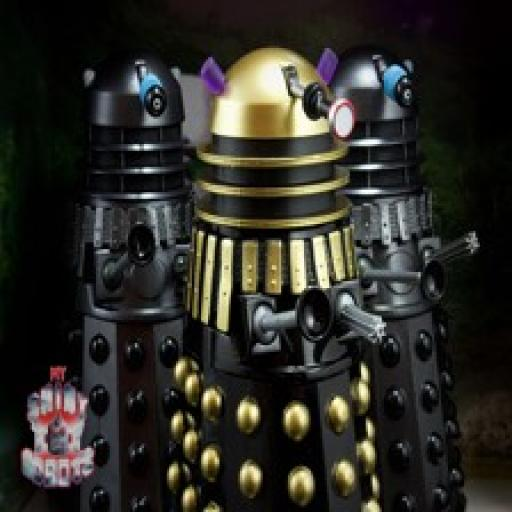dalek: (165, 46, 392, 512), (318, 48, 489, 512), (73, 52, 183, 512)
